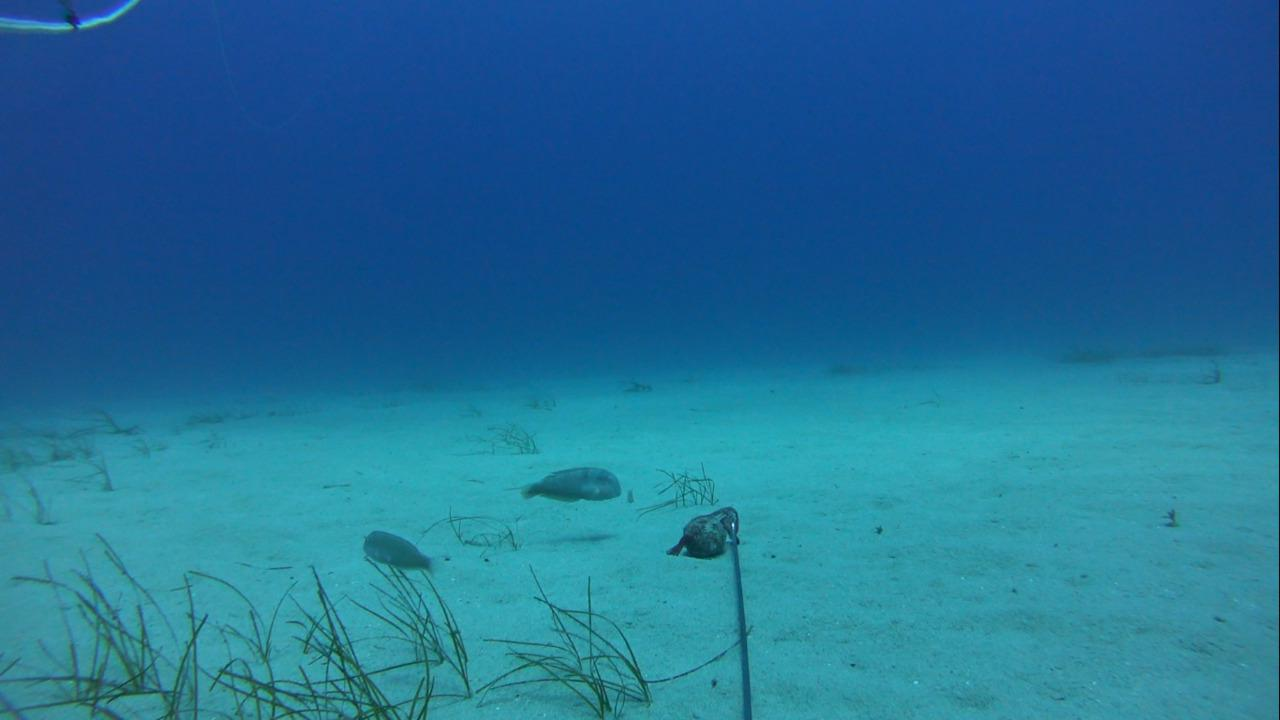raor: (352, 520, 445, 579), (513, 462, 625, 510)
